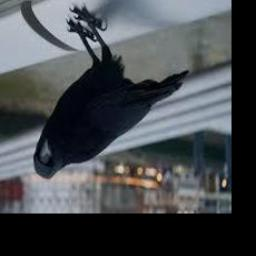Crow: (35, 6, 189, 179)
